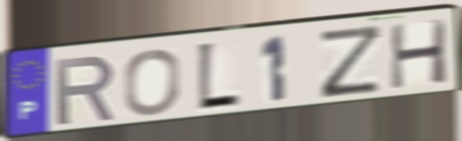1: (259, 33, 290, 103)
H: (387, 17, 451, 92)
L: (194, 40, 243, 115)
O: (122, 47, 183, 117)
R: (52, 53, 119, 128)
Z: (317, 22, 387, 101)
